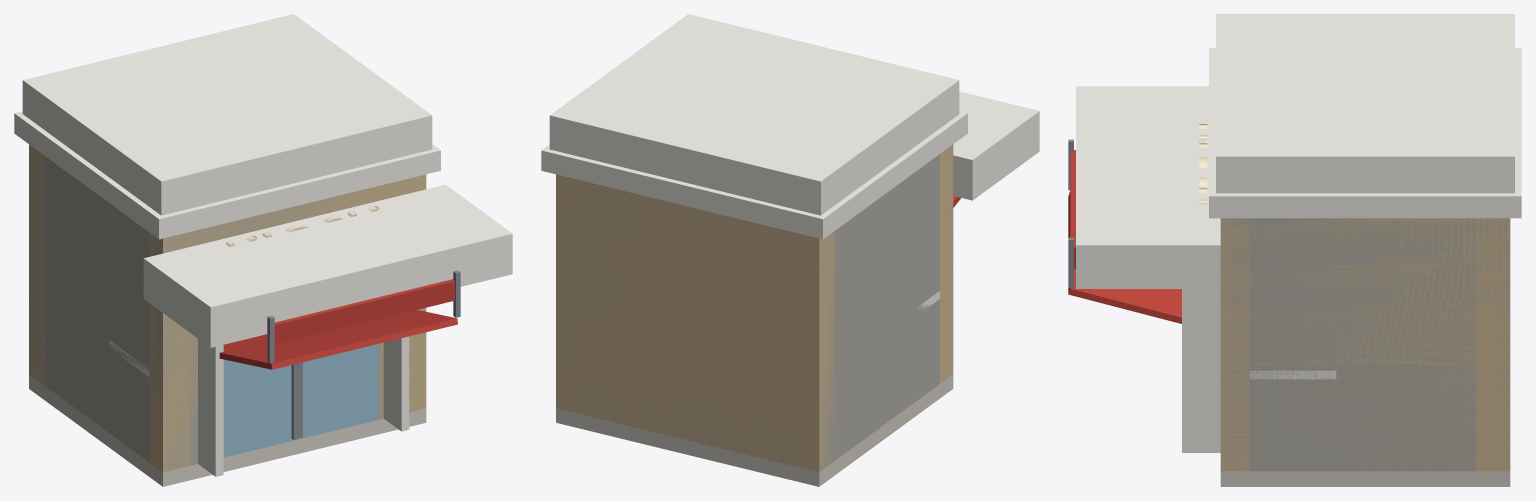
Rendered from BLD_Kiosk.fbx.
3 views of the same model, side by side, from view 1: azimuth 30°, elevation 25°; view 2: azimuth 150°, elevation 25°; view 3: azimuth 270°, elevation 25° (orthographic). The views are drawn at different scales.
Visible parts, largest first — view 1: BLD_Kiosk__BODY, BLD_Kiosk__ROOF, BLD_Kiosk__COL_Main; view 2: BLD_Kiosk__BODY, BLD_Kiosk__ROOF, BLD_Kiosk__COL_Main; view 3: BLD_Kiosk__BODY, BLD_Kiosk__COL_Main, BLD_Kiosk__ROOF.
Part boxes in pixels (x1=…): BLD_Kiosk__BODY: x1=14, y1=111, x2=512, y2=486; BLD_Kiosk__ROOF: x1=22, y1=14, x2=432, y2=215; BLD_Kiosk__COL_Main: x1=29, y1=146, x2=418, y2=471; BLD_Kiosk__BODY: x1=541, y1=91, x2=1039, y2=486; BLD_Kiosk__ROOF: x1=549, y1=14, x2=959, y2=215; BLD_Kiosk__COL_Main: x1=556, y1=144, x2=953, y2=471; BLD_Kiosk__BODY: x1=1068, y1=48, x2=1521, y2=486; BLD_Kiosk__COL_Main: x1=1220, y1=218, x2=1510, y2=471; BLD_Kiosk__ROOF: x1=1216, y1=14, x2=1514, y2=193.
Size of the model in its own units: 3.9 by 3.8 by 4.7.
